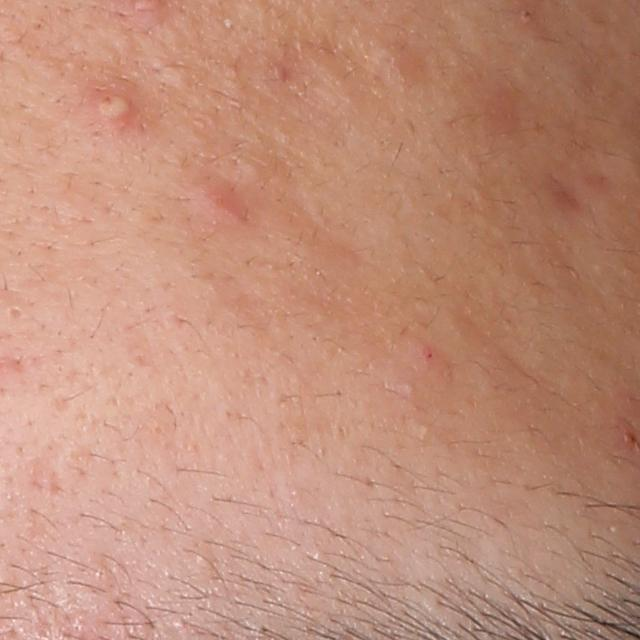comedo: (5, 305, 23, 321)
papule: (200, 188, 251, 231)
pustule: (94, 90, 136, 130)
